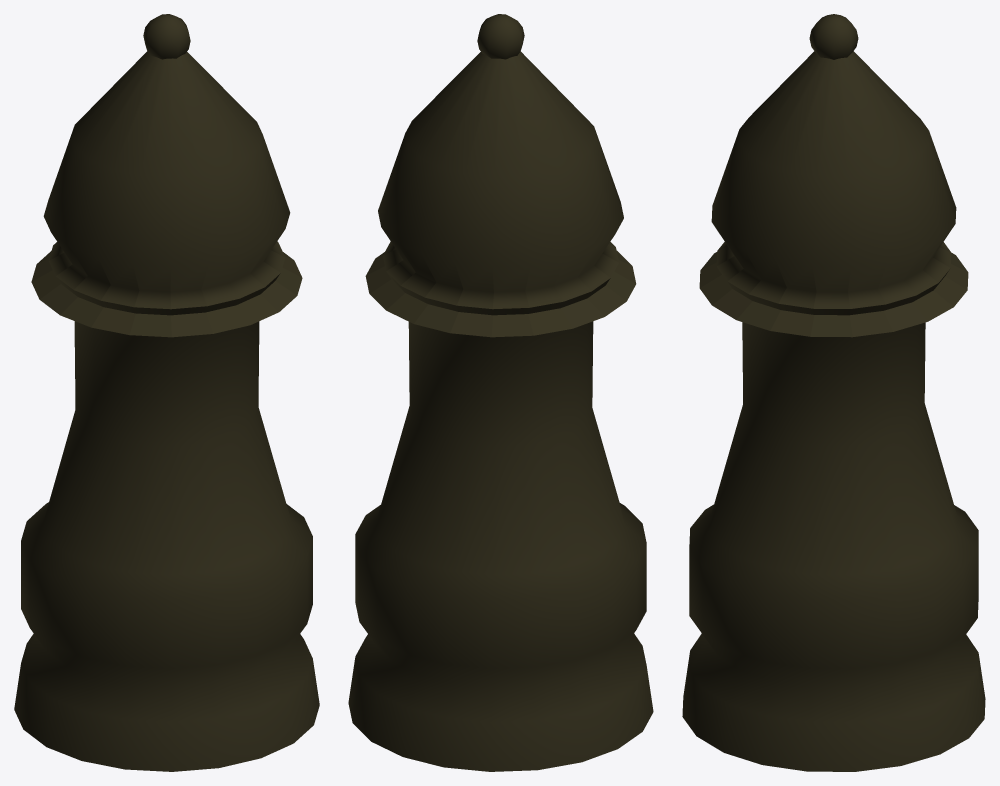
The model's file is bishop.fbx.
The picture shows the model from 3 angles, left to right: view 1: azimuth 30°, elevation 25°; view 2: azimuth 150°, elevation 25°; view 3: azimuth 270°, elevation 25°; orthographic projection.
Visible parts, largest first — view 1: pCylinder2; view 2: pCylinder2; view 3: pCylinder2.
Part boxes in pixels (x1,y1,x2,y2): pCylinder2: (14,14,319,771); pCylinder2: (348,14,653,771); pCylinder2: (682,14,985,771).
Size of the model in its own units: 1.96 by 4.93 by 1.96.
